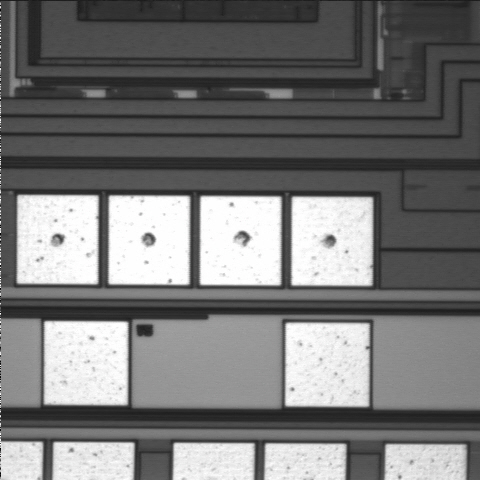pad: (291, 197, 373, 286), (17, 195, 98, 284), (109, 196, 190, 285), (200, 196, 281, 285), (44, 321, 128, 405), (285, 323, 369, 407)
